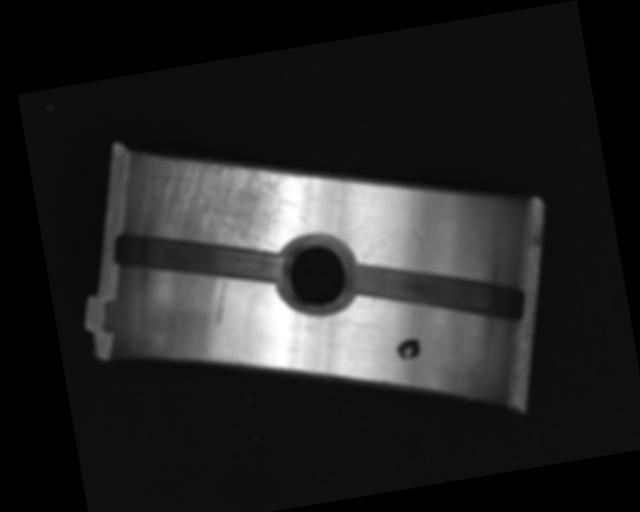blot: (394, 335, 423, 362)
bruise: (412, 227, 423, 240)
gap: (347, 237, 528, 347), (111, 208, 287, 307)
hole: (272, 230, 362, 321)
nick: (207, 275, 234, 327), (339, 217, 371, 245)
scratch: (123, 127, 305, 270)
